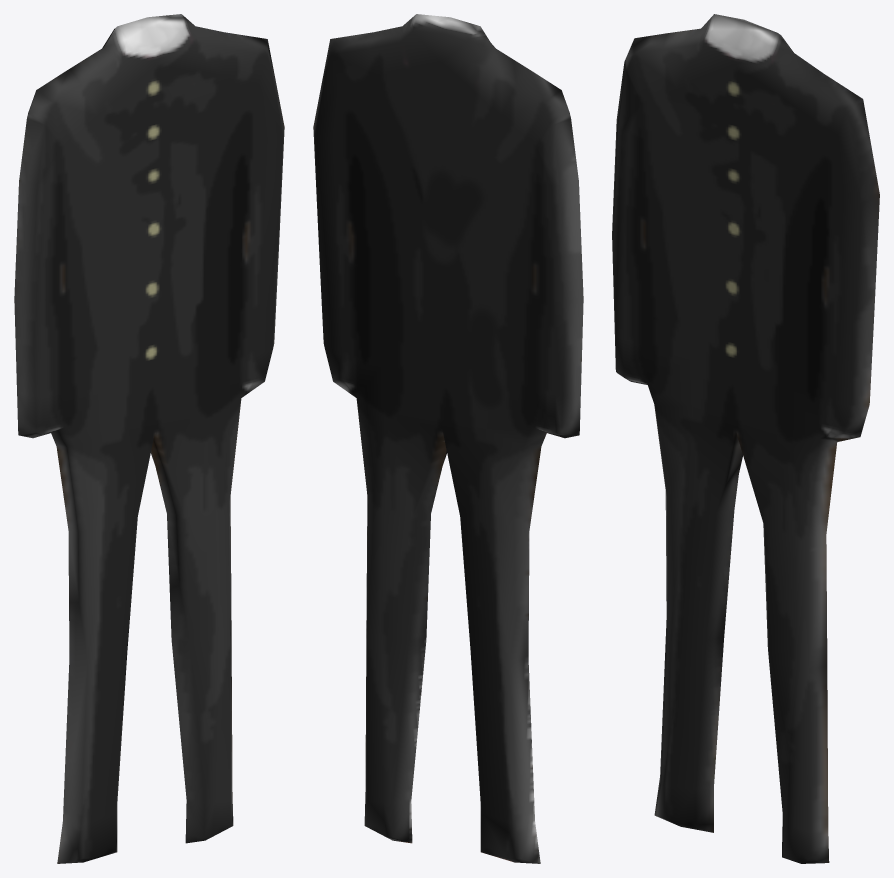
Rendered from prop_fuku10.fbx.
3 views of the same model, side by side, from view 1: azimuth 30°, elevation 25°; view 2: azimuth 150°, elevation 25°; view 3: azimuth 330°, elevation 25° (orthographic).
Visible parts, largest first — view 1: prop_fuku10; view 2: prop_fuku10; view 3: prop_fuku10.
Boxes of the visible parts, bbox=[...] form: prop_fuku10: bbox=[14, 14, 284, 863]; prop_fuku10: bbox=[313, 14, 583, 863]; prop_fuku10: bbox=[612, 14, 879, 863].
Size of the model in its own units: 0.4895 by 1.45 by 0.0522.
